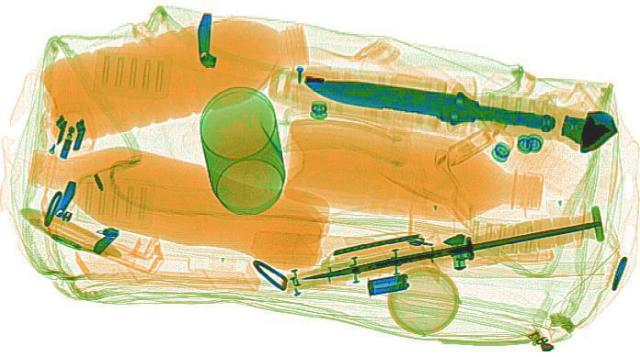Knife: (292, 208, 614, 295), (294, 68, 564, 138)
